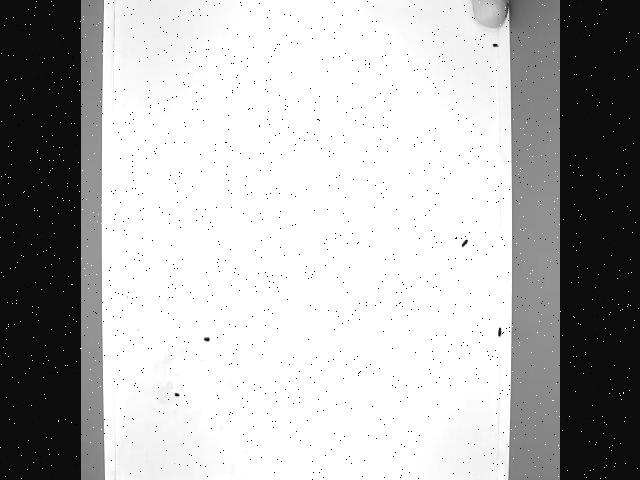Tikus: (467, 0, 511, 29)
